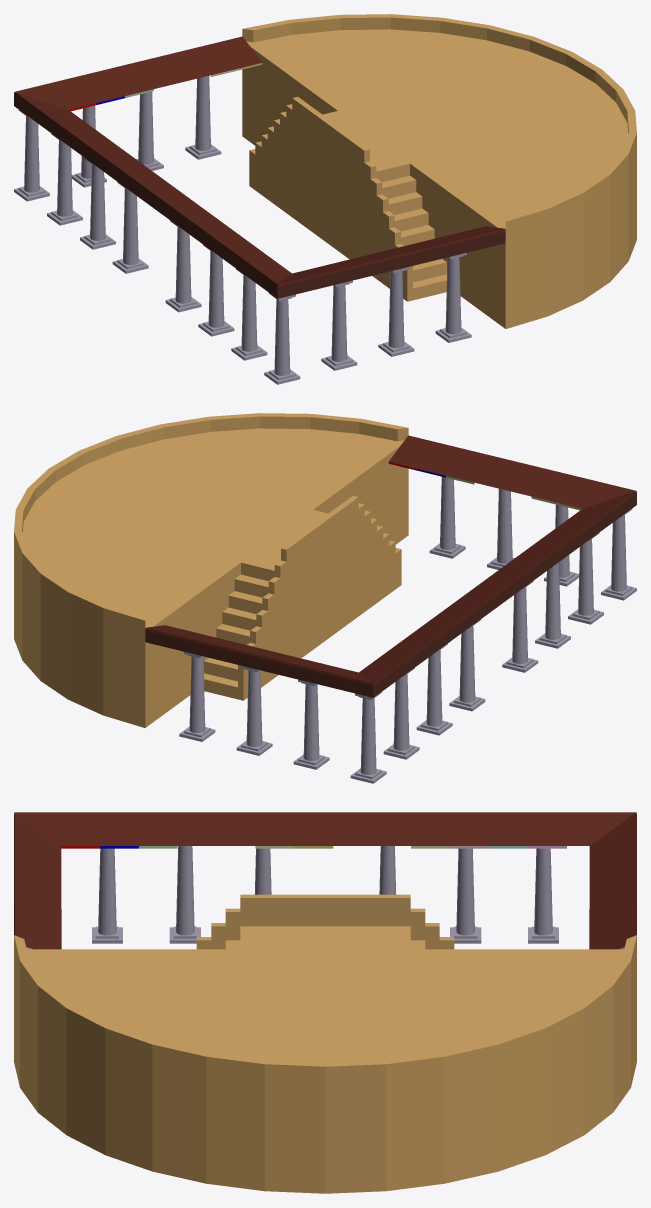
The model's file is silo.obj.
The picture shows the model from 3 angles, top to bottom: view 1: azimuth 30°, elevation 25°; view 2: azimuth 150°, elevation 25°; view 3: azimuth 270°, elevation 25°; orthographic projection. The views are drawn at different scales.
Parts seen in each view (by area): view 1: Grid; view 2: Grid; view 3: Grid.
Part boxes in pixels (bbox=[...]): Grid: bbox=[14, 14, 636, 384]; Grid: bbox=[14, 413, 636, 783]; Grid: bbox=[14, 812, 636, 1193].
Size of the model in its own units: 2 by 0.5 by 2.
